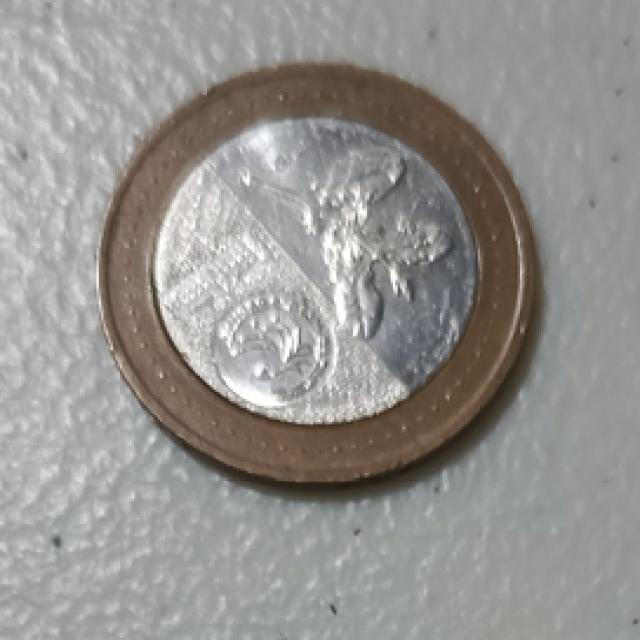20_peso: (99, 63, 534, 482)
